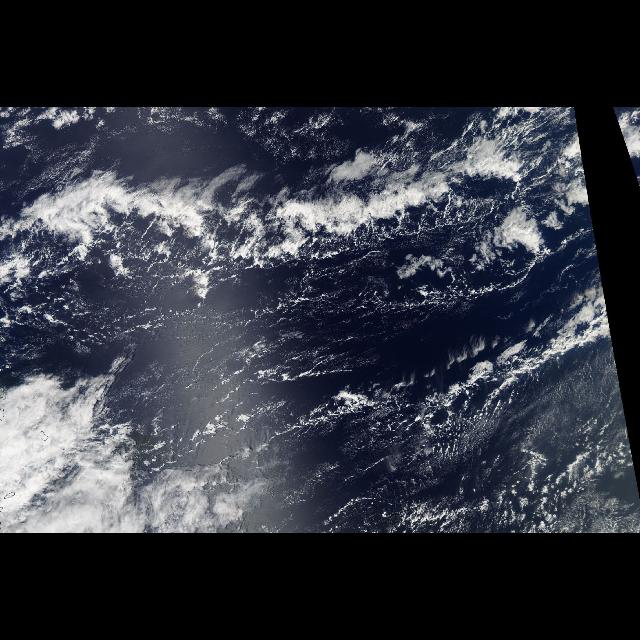Fish: (3, 109, 591, 327)
Gravel: (383, 367, 634, 531)
Sugar: (4, 288, 542, 352)
